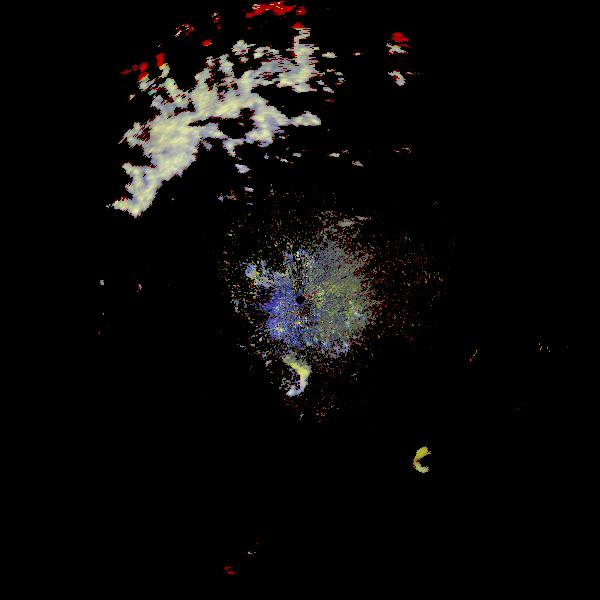roost: (451, 318, 556, 423), (268, 350, 322, 404), (410, 439, 461, 490), (258, 181, 285, 208)
